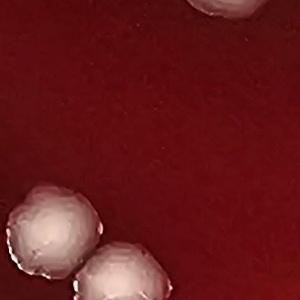colony: (4, 178, 110, 284), (67, 239, 179, 300), (182, 0, 276, 26)
